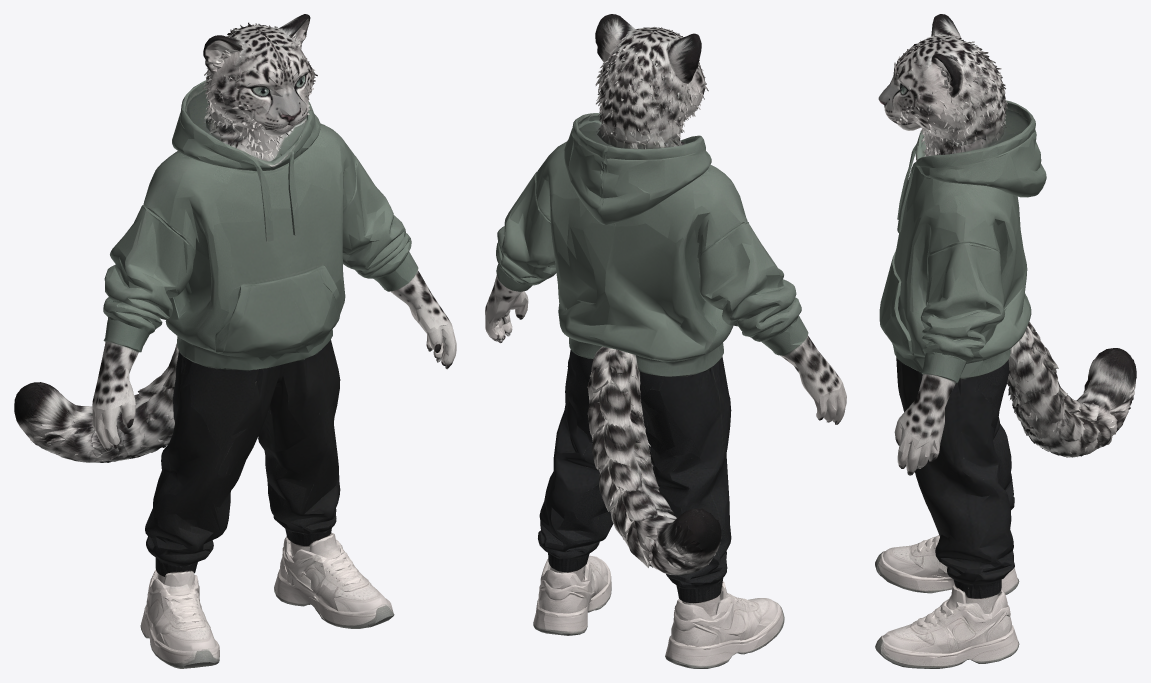
The model's file is barsbek_mesh.glb.
The picture shows the model from 3 angles, left to right: view 1: azimuth 30°, elevation 25°; view 2: azimuth 150°, elevation 25°; view 3: azimuth 270°, elevation 25°; orthographic projection. The views are drawn at different scales.
Bounding box in the file's own units: 1.18 × 1.9 × 0.7698.
Materials: 1 (1 with a texture image).
